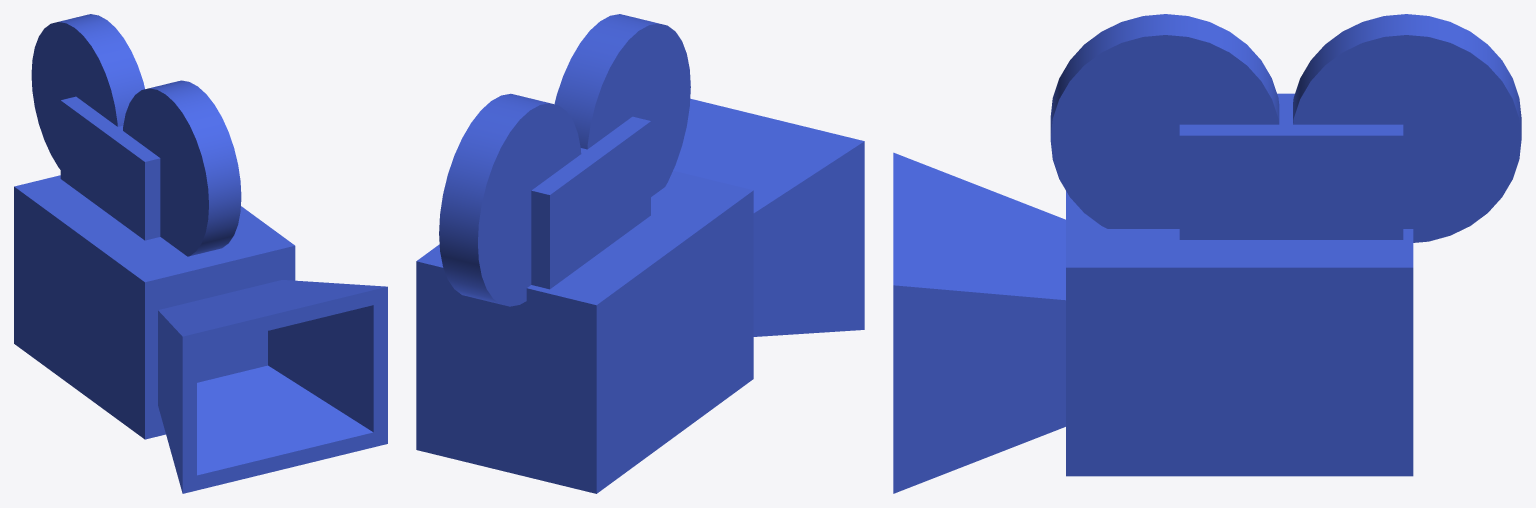
Rendered from CameraGizmo.fbx.
3 renders of one model, left to right at view 1: azimuth 30°, elevation 25°; view 2: azimuth 150°, elevation 25°; view 3: azimuth 270°, elevation 25°, orthographic. The views are drawn at different scales.
Parts seen in each view (by area): view 1: Camera; view 2: Camera; view 3: Camera.
Part boxes in pixels (x1,y1,x2,y2): Camera: (14,14,387,493); Camera: (416,14,864,493); Camera: (893,14,1521,493).
Size of the model in its own units: 71.53 by 101 by 143.
